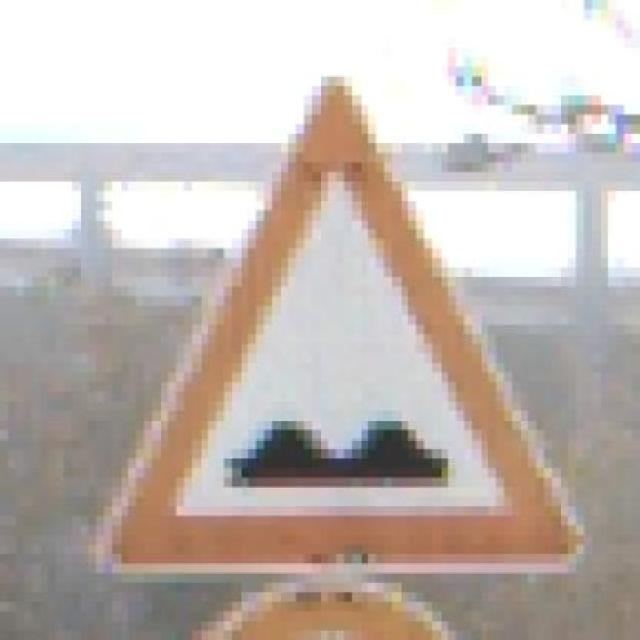Uneven Road: (95, 57, 592, 574)
